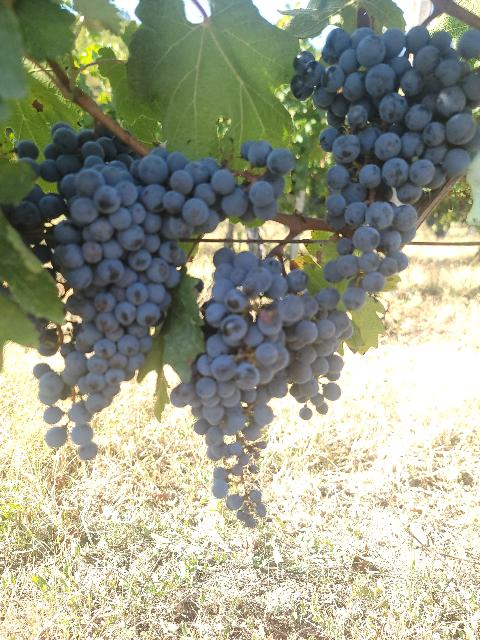grapes: (8, 122, 244, 412), (290, 25, 480, 318), (170, 248, 291, 528), (276, 270, 351, 411)
